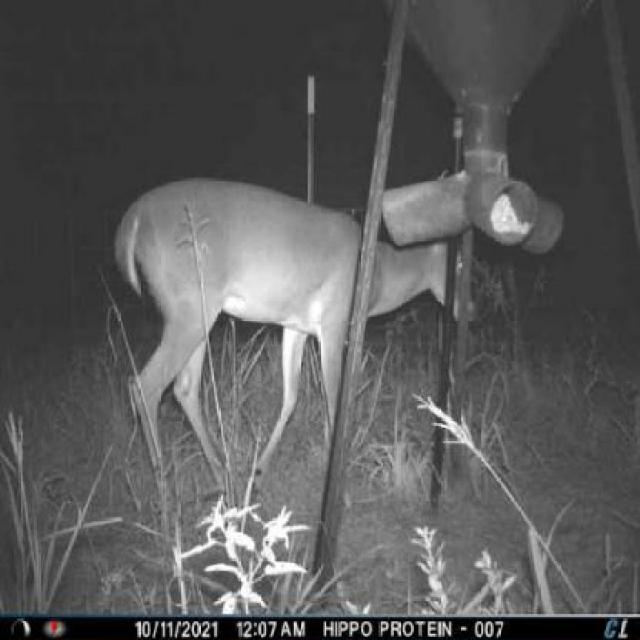Deer: (110, 158, 490, 507)
